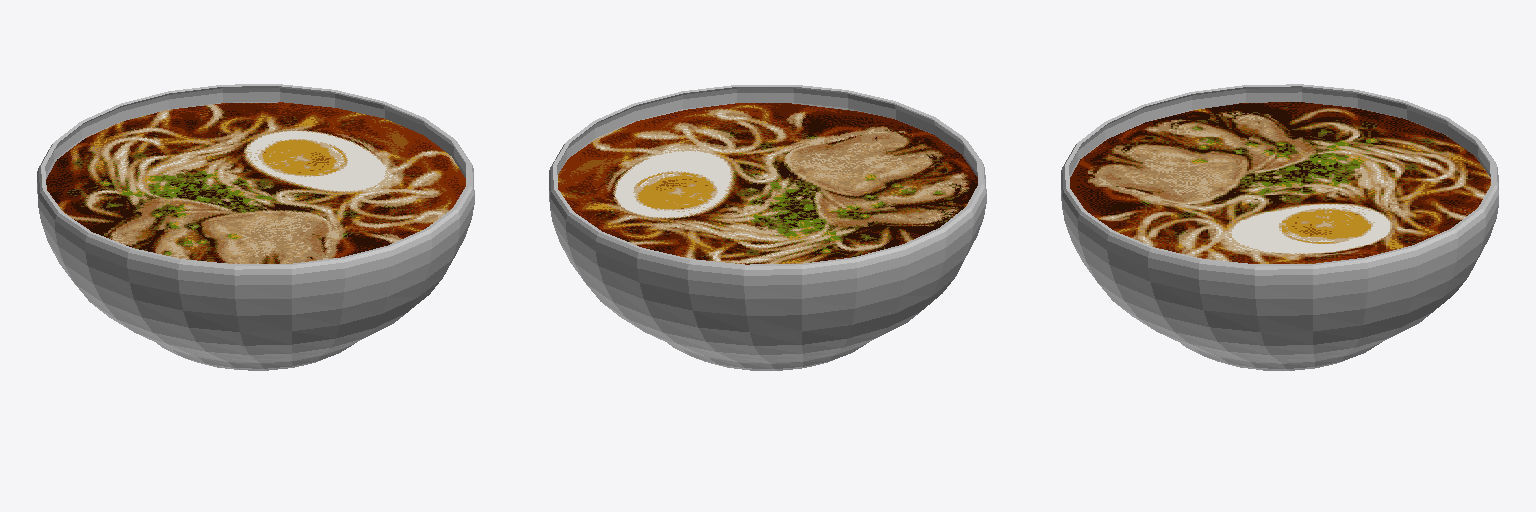
3 renders of one model, left to right at view 1: azimuth 30°, elevation 25°; view 2: azimuth 150°, elevation 25°; view 3: azimuth 270°, elevation 25°, orthographic.
Visible parts, largest first — view 1: ramen, Cube; view 2: ramen, Cube; view 3: ramen, Cube.
Boxes of the visible parts, x1=… form: ramen: x1=46, y1=102, x2=465, y2=263; Cube: x1=37, y1=84, x2=474, y2=370; ramen: x1=558, y1=103, x2=977, y2=264; Cube: x1=549, y1=85, x2=986, y2=370; ramen: x1=1070, y1=102, x2=1490, y2=263; Cube: x1=1061, y1=84, x2=1498, y2=370.
Size of the model in its own units: 3.98 by 1.62 by 3.98.
Materials: 1 (1 with a texture image).